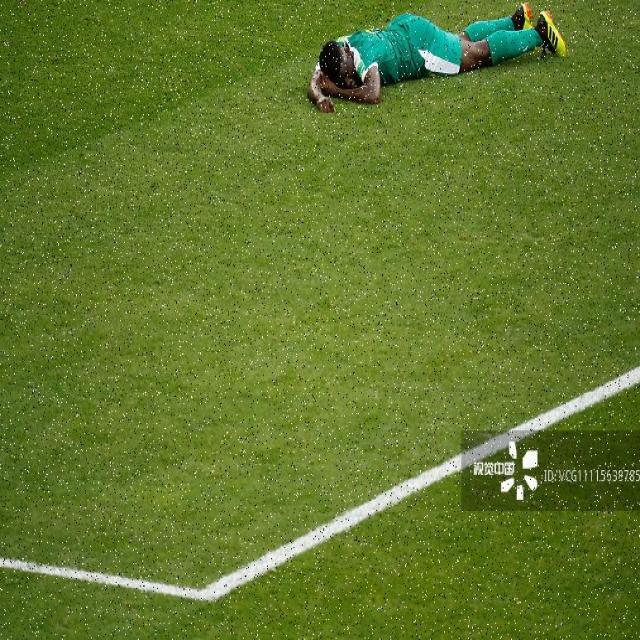fall: (302, 0, 564, 114)
